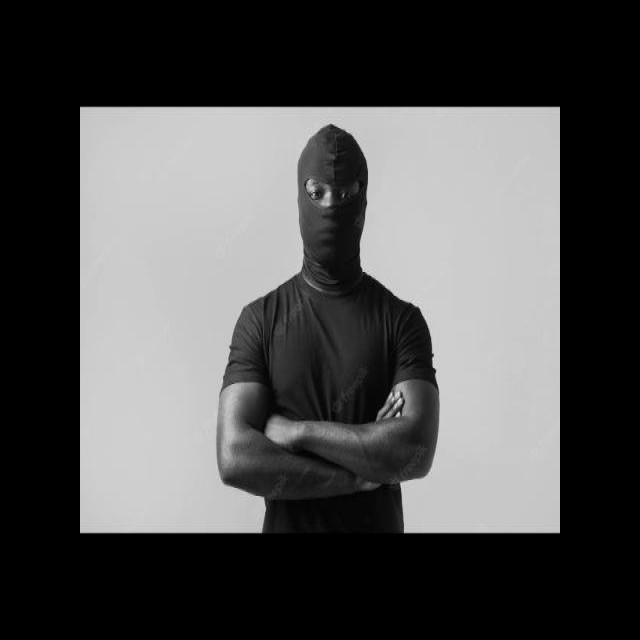6_pasamontana: (297, 125, 369, 291)
